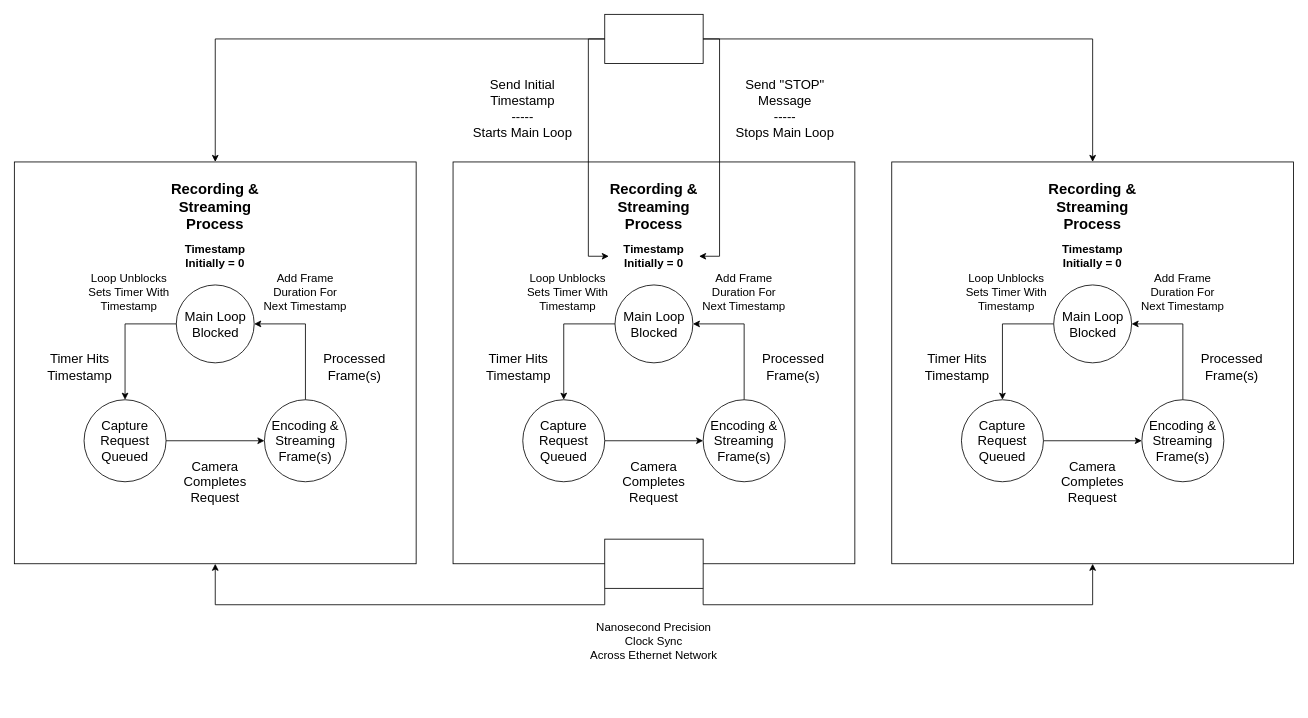
This 1308x718 diagram has some shape labels left out. Each missing label, with the box of its shape:
PTP Grandmaster Clock: (604, 538, 703, 588)
Server Script: (604, 14, 703, 64)
